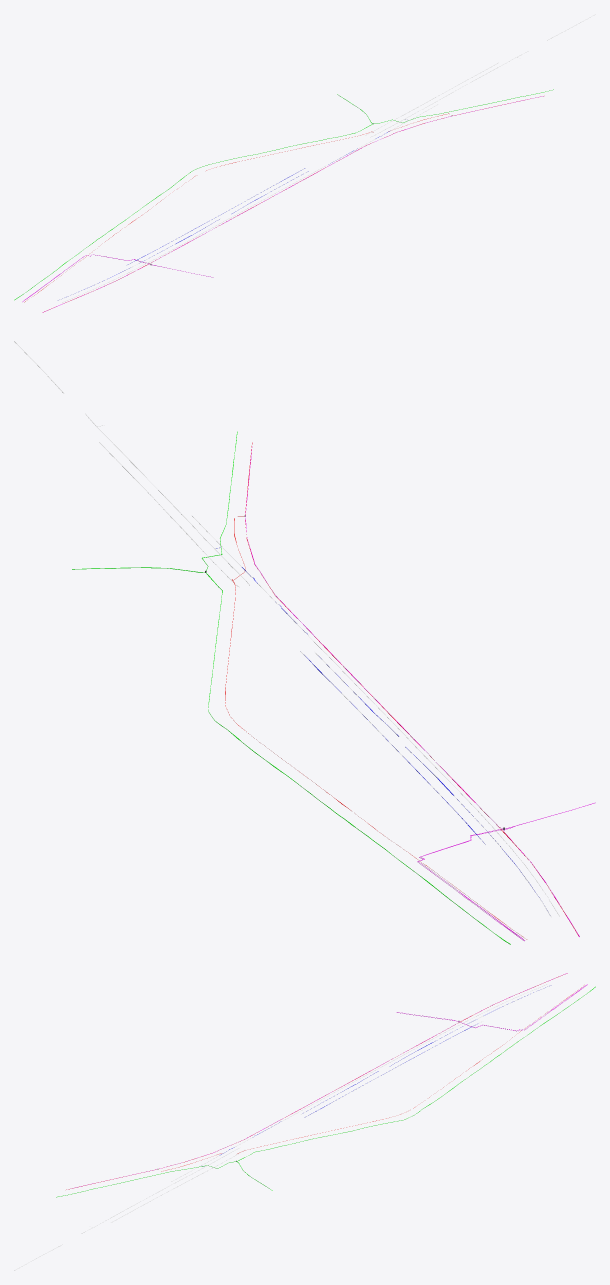
The picture shows the model from 3 angles, top to bottom: view 1: azimuth 90°, elevation 25°; view 2: azimuth 150°, elevation 25°; view 3: azimuth 270°, elevation 25°; orthographic projection. The views are drawn at different scales.
Visible parts, largest first — view 1: 0XhTsgBLbBTvt0sE7igwiV; view 2: no part large enough to name; view 3: 0XhTsgBLbBTvt0sE7igwiV.
Part boxes in pixels (x1,y1,x2,y2): 0XhTsgBLbBTvt0sE7igwiV: (14,89,553,299); 0XhTsgBLbBTvt0sE7igwiV: (56,986,595,1197).
Bounding box in the file's own units: 1349 × 6.93 × 1113.
